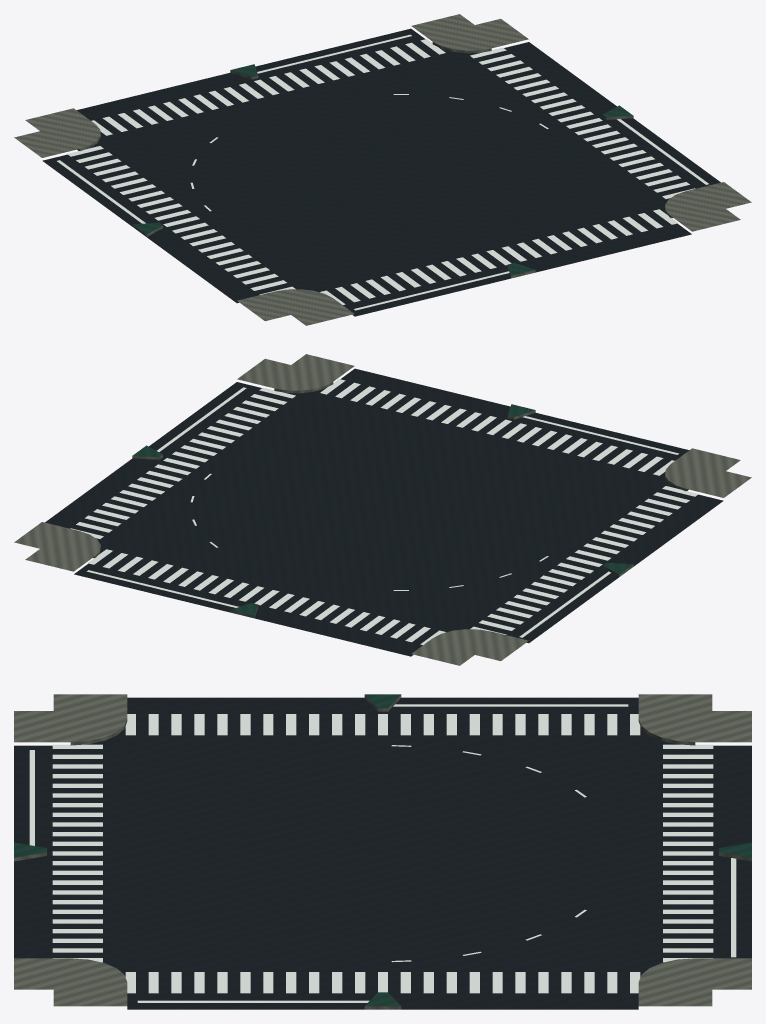
File: junc_cross_6x6_LOD1.glb
The picture shows the model from 3 angles, top to bottom: view 1: azimuth 30°, elevation 25°; view 2: azimuth 150°, elevation 25°; view 3: azimuth 270°, elevation 25°; orthographic projection. The views are drawn at different scales.
Parts seen in each view (by area): view 1: junc_cross_6x6__surface.001, junc_cross_6x6__crosswalk_paint.001, junc_cross_6x6__rounded_corner_curb.001, junc_cross_6x6__stop_line_paint.001, junc_cross_6x6__median_ends.001; view 2: junc_cross_6x6__surface.001, junc_cross_6x6__crosswalk_paint.001, junc_cross_6x6__rounded_corner_curb.001, junc_cross_6x6__stop_line_paint.001, junc_cross_6x6__median_ends.001; view 3: junc_cross_6x6__surface.001, junc_cross_6x6__crosswalk_paint.001, junc_cross_6x6__rounded_corner_curb.001, junc_cross_6x6__stop_line_paint.001, junc_cross_6x6__median_ends.001.
Boxes of the visible parts, x1,y1,x2,y2 form: junc_cross_6x6__surface.001: [42, 28, 720, 316]; junc_cross_6x6__crosswalk_paint.001: [67, 39, 695, 304]; junc_cross_6x6__rounded_corner_curb.001: [14, 14, 751, 325]; junc_cross_6x6__stop_line_paint.001: [57, 34, 708, 310]; junc_cross_6x6__median_ends.001: [132, 64, 633, 278]; junc_cross_6x6__surface.001: [45, 368, 723, 656]; junc_cross_6x6__crosswalk_paint.001: [70, 379, 698, 644]; junc_cross_6x6__rounded_corner_curb.001: [14, 354, 751, 665]; junc_cross_6x6__stop_line_paint.001: [87, 387, 678, 637]; junc_cross_6x6__median_ends.001: [132, 404, 633, 618]; junc_cross_6x6__surface.001: [14, 697, 751, 1009]; junc_cross_6x6__crosswalk_paint.001: [52, 714, 713, 993]; junc_cross_6x6__rounded_corner_curb.001: [14, 694, 751, 1006]; junc_cross_6x6__stop_line_paint.001: [29, 704, 736, 1002]; junc_cross_6x6__median_ends.001: [14, 694, 751, 1009].
Bounding box in the file's own units: 28 × 0.145 × 28.
5 materials, 4 textured.
